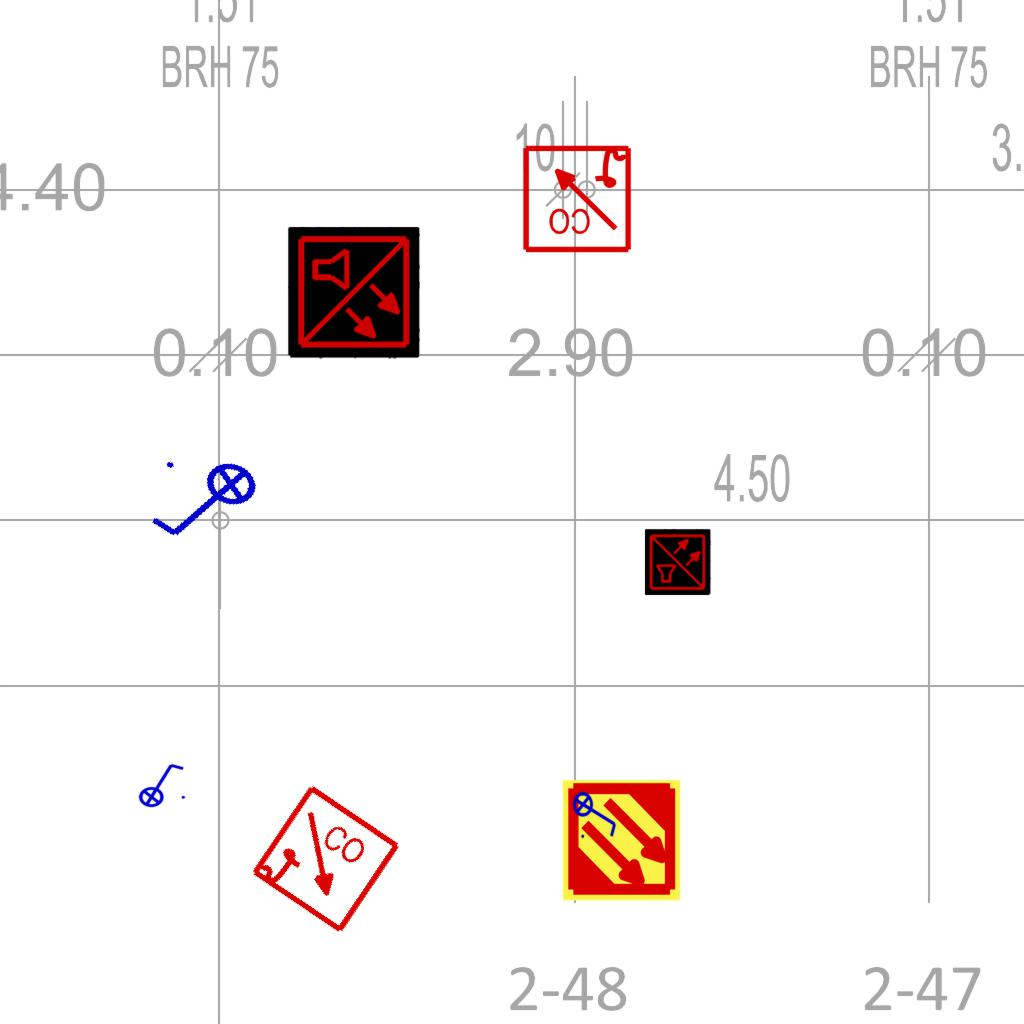ASR_Ansaugrauchmelder: (559, 778, 684, 903)
Ausschalter_beleuchtet: (139, 441, 275, 567), (132, 760, 188, 808), (572, 785, 620, 841)
OKW_Multisensormelder_(Kombination_optischer_Rauch-Kahlenmonoxid_Waerme-Melder): (288, 227, 420, 359), (645, 529, 711, 595)
ROA_Rauchmelder_optisch_mit_Signalgeber_(Sockelsirene): (247, 782, 404, 939), (520, 141, 633, 254)
